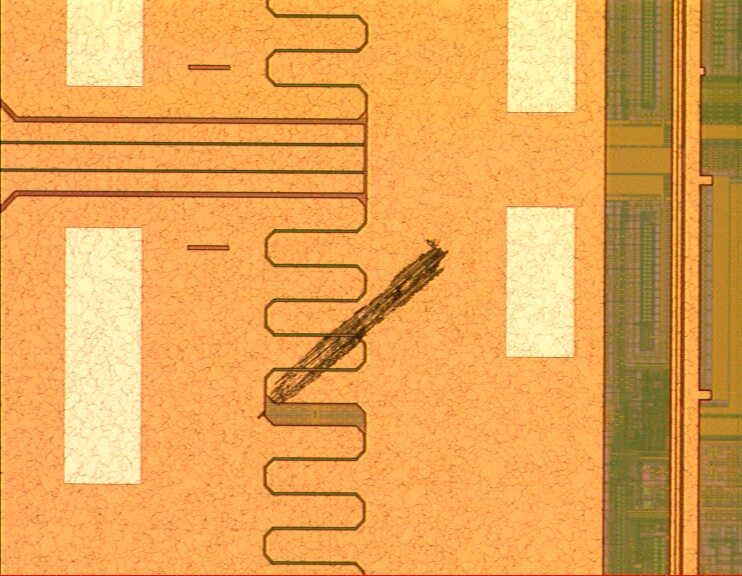SCRATCH: (234, 229, 463, 427)
